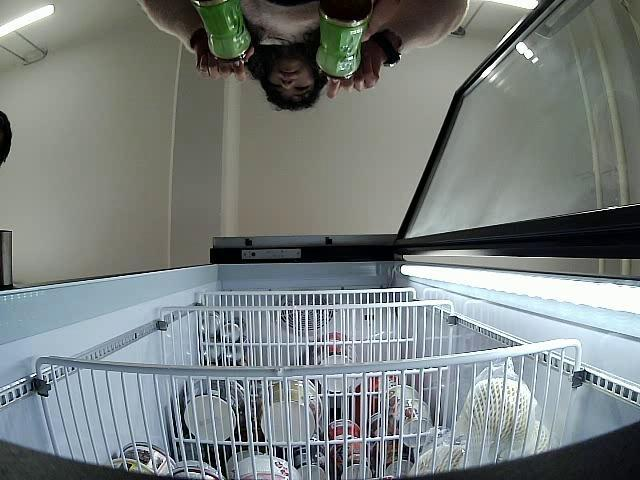19_17cha: (316, 0, 372, 79), (192, 0, 252, 62)
